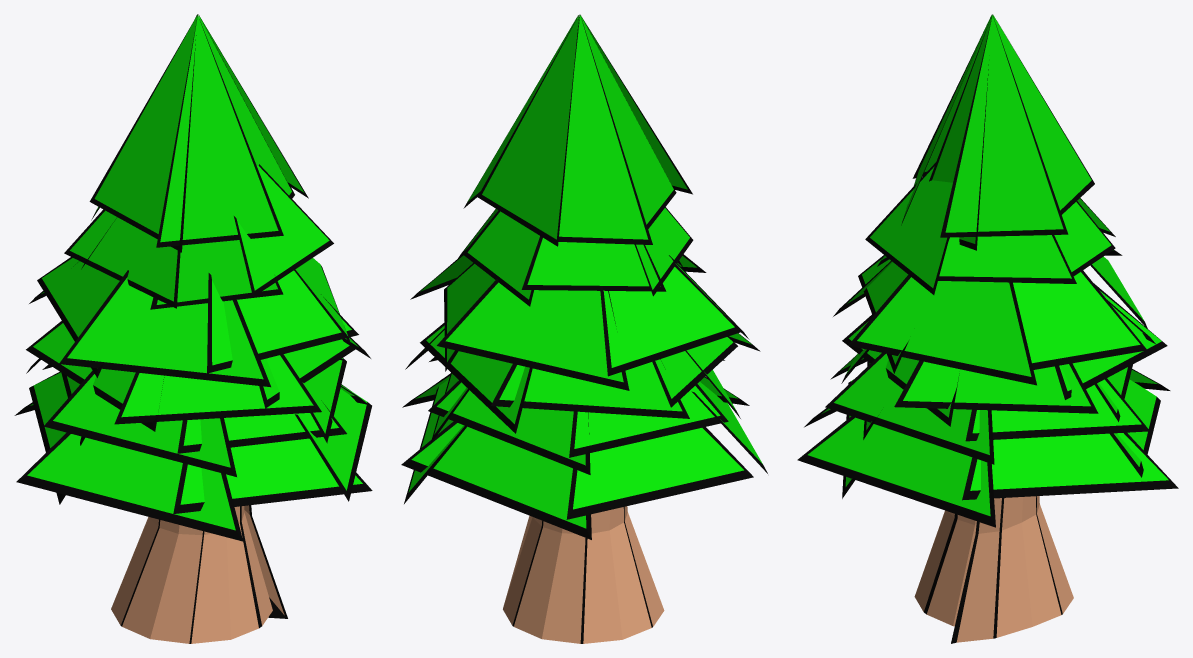
Rendered from CardboardTree07.fbx.
3 views of the same model, side by side, from view 1: azimuth 30°, elevation 25°; view 2: azimuth 150°, elevation 25°; view 3: azimuth 270°, elevation 25° (orthographic).
Visible parts, largest first — view 1: Cylinder.004; view 2: Cylinder.004; view 3: Cylinder.004.
Boxes of the visible parts, x1,y1,x2,y2 form: Cylinder.004: (14, 14, 372, 643); Cylinder.004: (401, 14, 767, 643); Cylinder.004: (797, 14, 1178, 643).
Size of the model in its own units: 855 by 1368 by 794.
